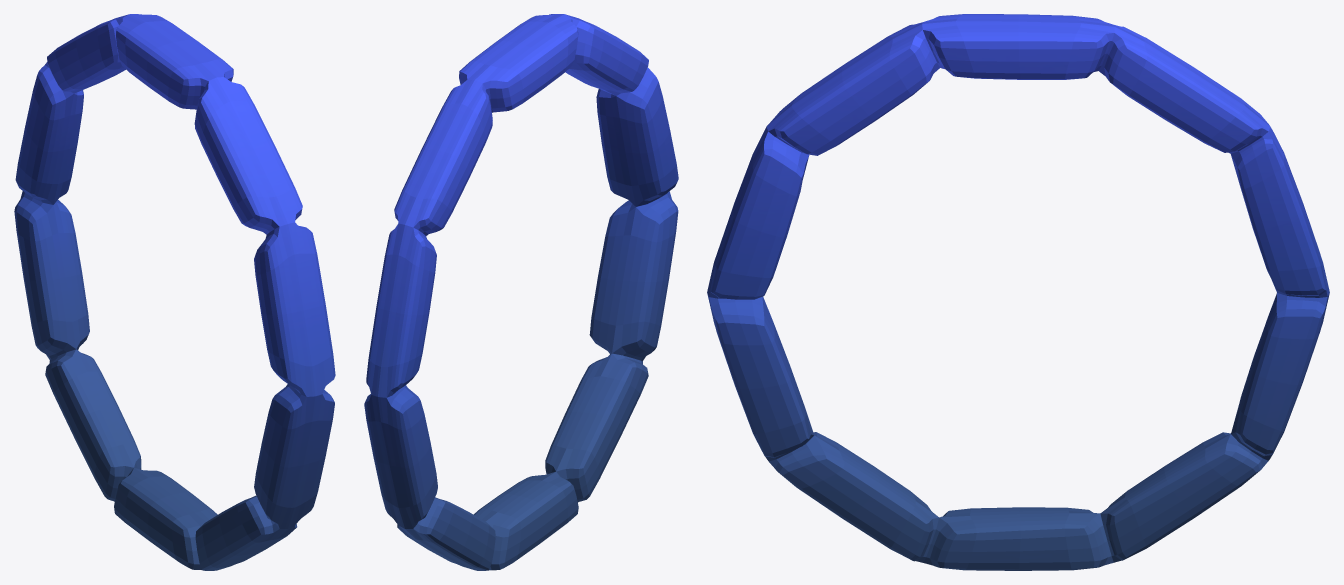
Rendered from portal.fbx.
3 views of the same model, side by side, from view 1: azimuth 30°, elevation 25°; view 2: azimuth 150°, elevation 25°; view 3: azimuth 270°, elevation 25° (orthographic). The views are drawn at different scales.
Visible parts, largest first — view 1: PortalRim; view 2: PortalRim; view 3: PortalRim.
Part boxes in pixels (x1=…): PortalRim: x1=14, y1=14, x2=335, y2=570; PortalRim: x1=364, y1=14, x2=678, y2=570; PortalRim: x1=707, y1=14, x2=1329, y2=570.
Bounding box in the file's own units: 20.6 × 173 × 180.
